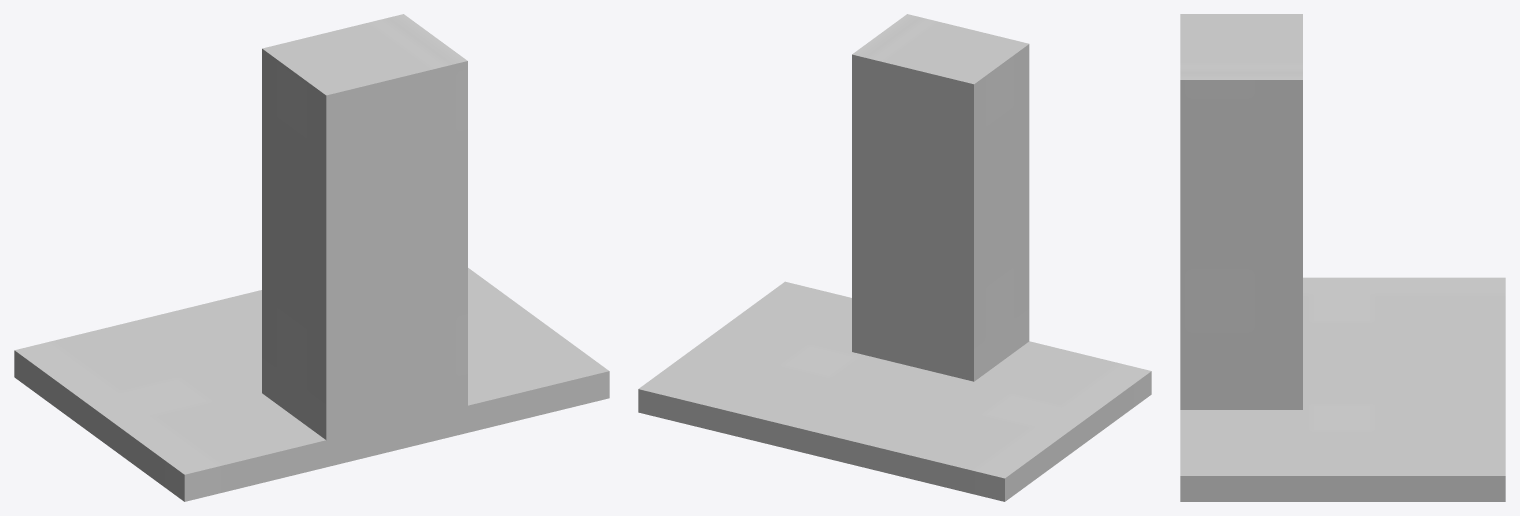
Rendered from KitchenExhaust02.glb.
The picture shows the model from 3 angles, left to right: view 1: azimuth 30°, elevation 25°; view 2: azimuth 150°, elevation 25°; view 3: azimuth 270°, elevation 25°; orthographic projection. The views are drawn at different scales.
Visible parts, largest first — view 1: KitchenExhaust02_model; view 2: KitchenExhaust02_model; view 3: KitchenExhaust02_model.
Part boxes in pixels (box(x1,y1,x2,y2)): KitchenExhaust02_model: box(14, 14, 609, 501); KitchenExhaust02_model: box(638, 14, 1151, 501); KitchenExhaust02_model: box(1180, 14, 1505, 501).
Size of the model in its own units: 1.22 by 1.02 by 0.8459.
1 material, 1 textured.
